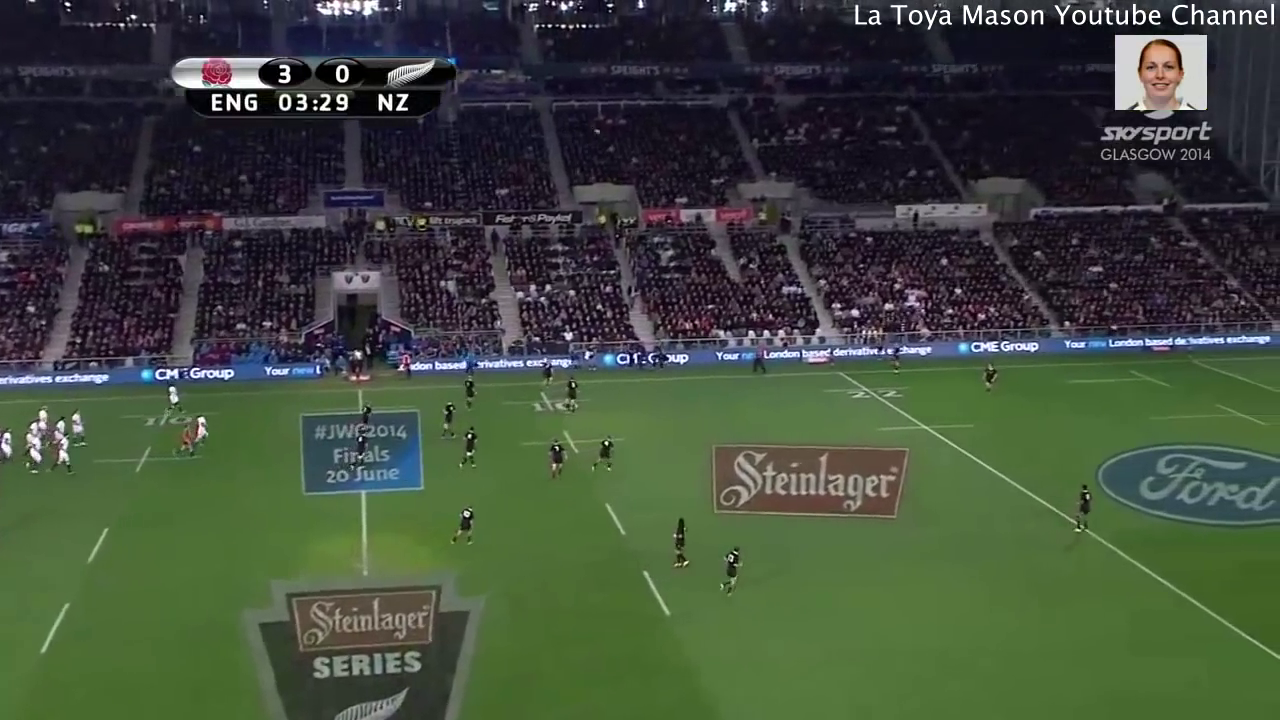10_metre: (91, 444, 203, 476), (519, 427, 629, 456), (500, 388, 592, 415), (117, 404, 213, 428)
player: (715, 542, 747, 599), (669, 516, 693, 572), (1073, 481, 1096, 539), (450, 503, 477, 549), (21, 431, 48, 475), (589, 433, 617, 475), (49, 429, 75, 473), (544, 436, 567, 483), (456, 425, 480, 470), (437, 399, 460, 441), (70, 406, 91, 450), (350, 427, 369, 474), (458, 374, 480, 412), (164, 381, 187, 416), (174, 422, 196, 458), (562, 375, 579, 417), (49, 415, 69, 450), (978, 363, 997, 397), (1, 423, 16, 466), (357, 399, 374, 436), (537, 359, 556, 392), (195, 415, 212, 450), (36, 405, 53, 440), (887, 340, 902, 378), (25, 419, 41, 439)
